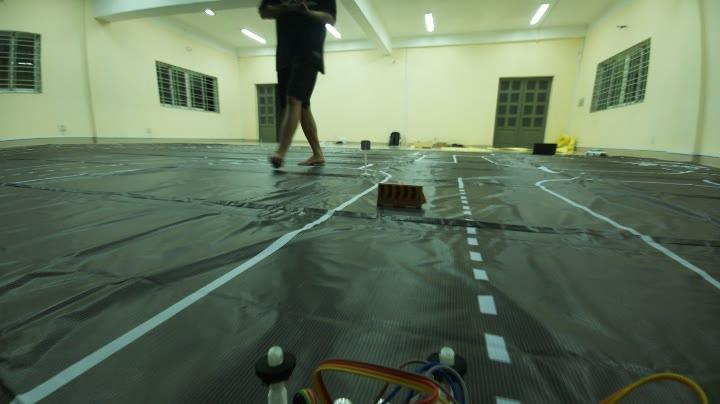roadblock: (369, 178, 430, 219)
